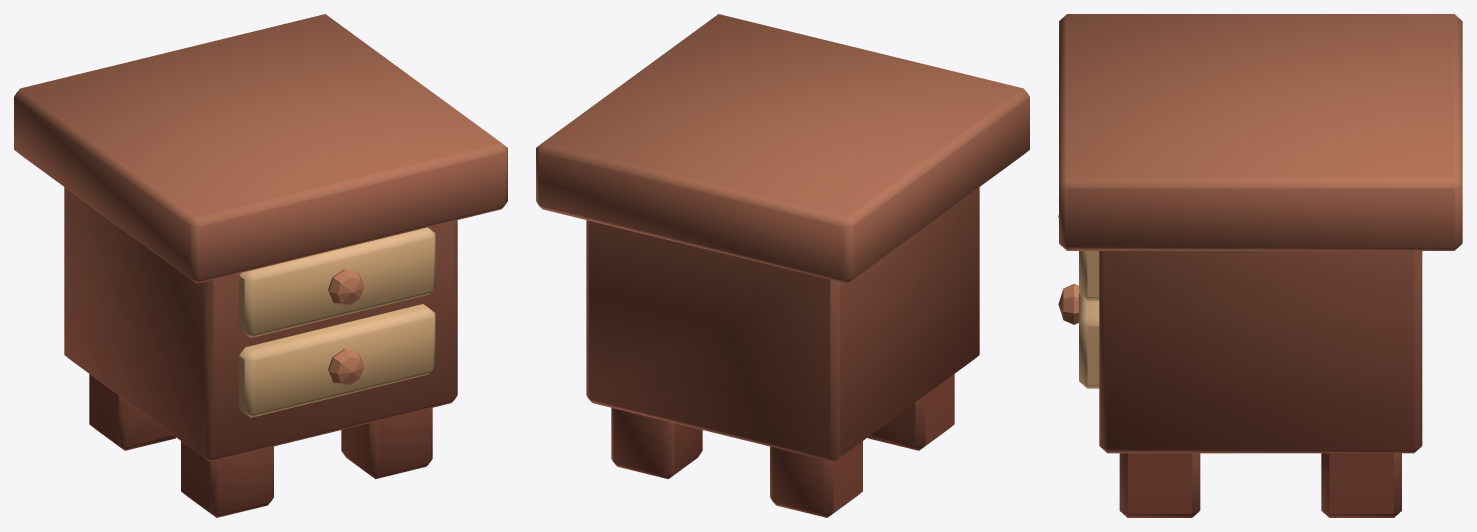
The model's file is kkf.cabinet_small.glb.
The picture shows the model from 3 angles, left to right: view 1: azimuth 30°, elevation 25°; view 2: azimuth 150°, elevation 25°; view 3: azimuth 270°, elevation 25°; orthographic projection. The views are drawn at different scales.
Parts seen in each view (by area): view 1: cabinet_small; view 2: cabinet_small; view 3: cabinet_small.
Part boxes in pixels (bbox=[...]): cabinet_small: bbox=[14, 14, 507, 517]; cabinet_small: bbox=[536, 14, 1029, 517]; cabinet_small: bbox=[1058, 14, 1462, 517].
Size of the model in its own units: 0.7154 by 0.7154 by 0.7165.
1 material, 1 textured.
